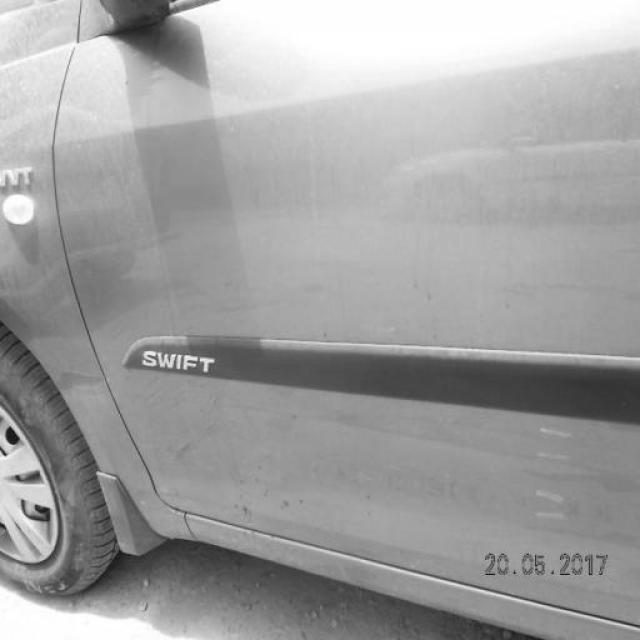scratch: (531, 418, 574, 525)
